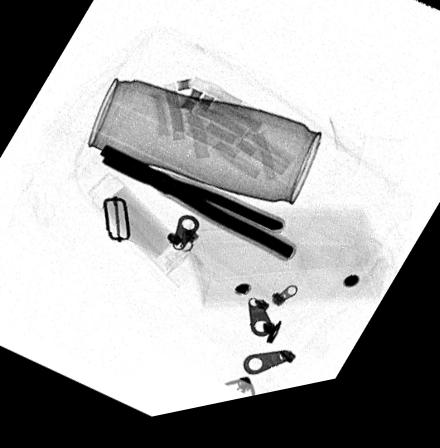Pliers: (99, 148, 296, 269)
